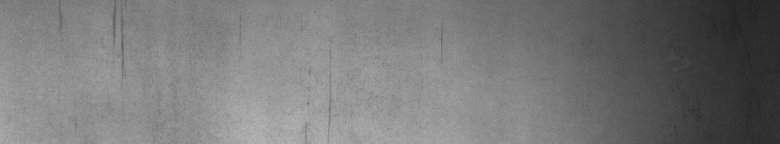ka: (59, 6, 124, 77)
